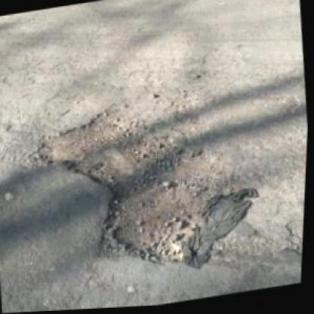Hueco: (26, 88, 243, 289)
